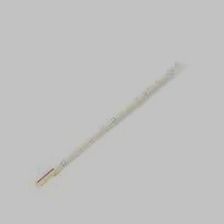drinking_straw: (27, 45, 203, 192)
